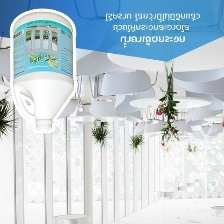cleaning_solution: (8, 8, 75, 132)
